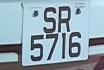1: (59, 32, 68, 62)
5: (27, 32, 46, 66)
6: (68, 32, 82, 61)
7: (44, 32, 60, 63)
R: (57, 4, 74, 34)
S: (41, 5, 58, 35)
